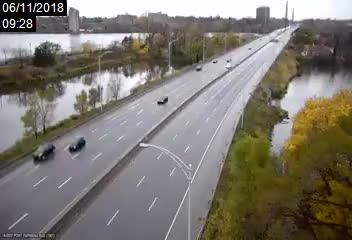personal_car: (32, 143, 56, 161), (70, 136, 86, 151), (157, 95, 169, 105), (224, 61, 231, 69), (196, 64, 202, 71), (212, 58, 217, 64), (224, 57, 229, 61)
